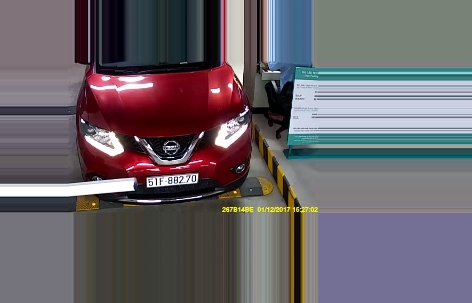plate: (145, 171, 202, 186)
